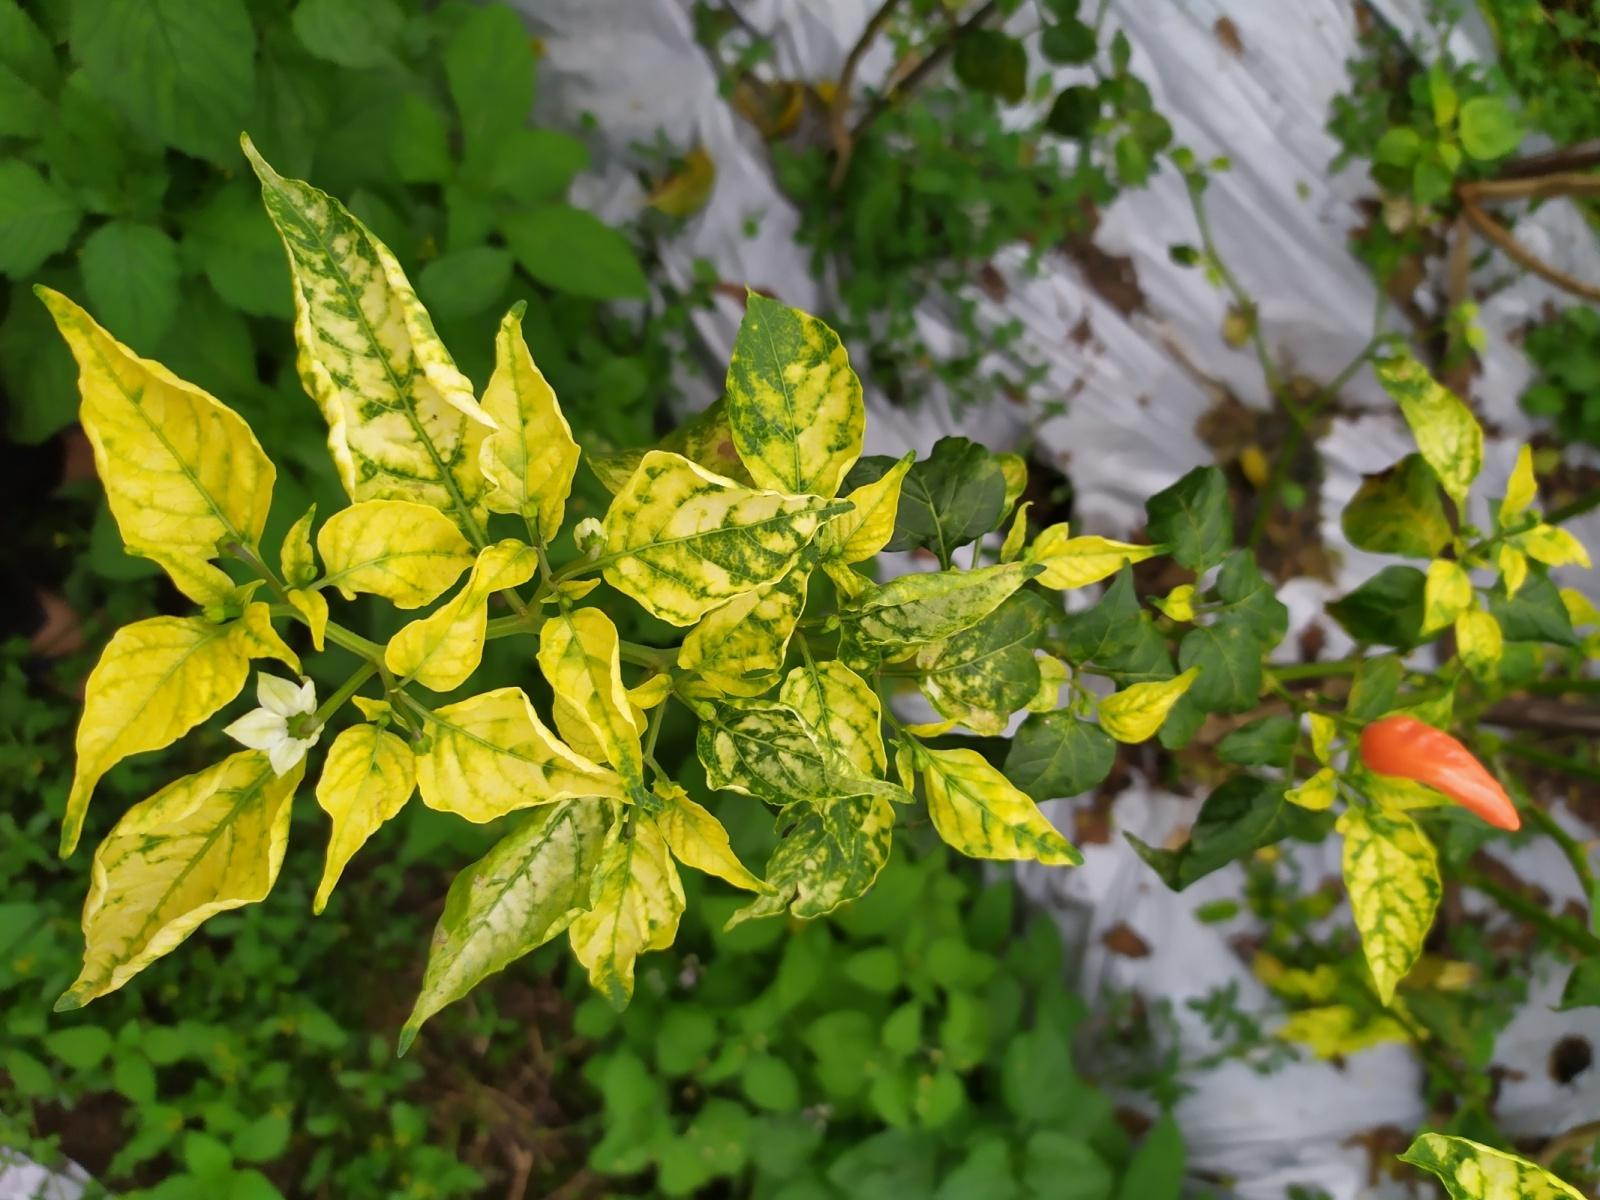cabai_normal: (1359, 715, 1522, 832)
